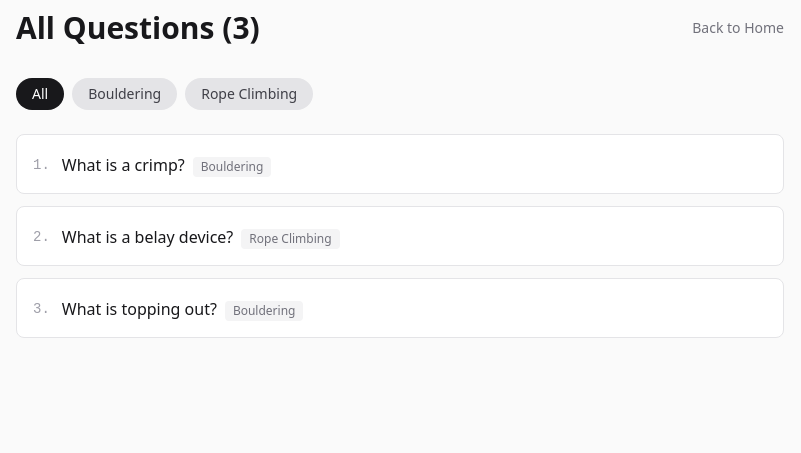
QuestionsPage › should collapse question when clicked again
Click the text "What is a crimp?".
click(123, 165)  # box x1=62 y1=154 x2=185 y2=176
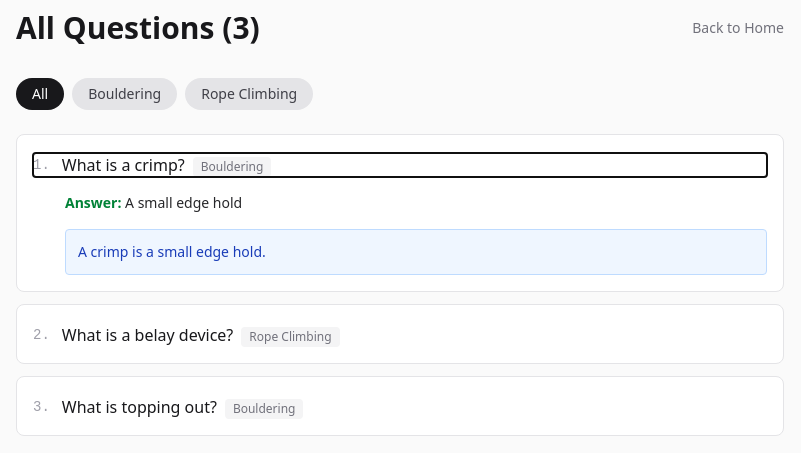
Now the text "A small edge hold" is shown, box x1=125 y1=193 x2=242 y2=212
Click the text "What is a crimp?".
click(123, 165)  # box x1=62 y1=154 x2=185 y2=176
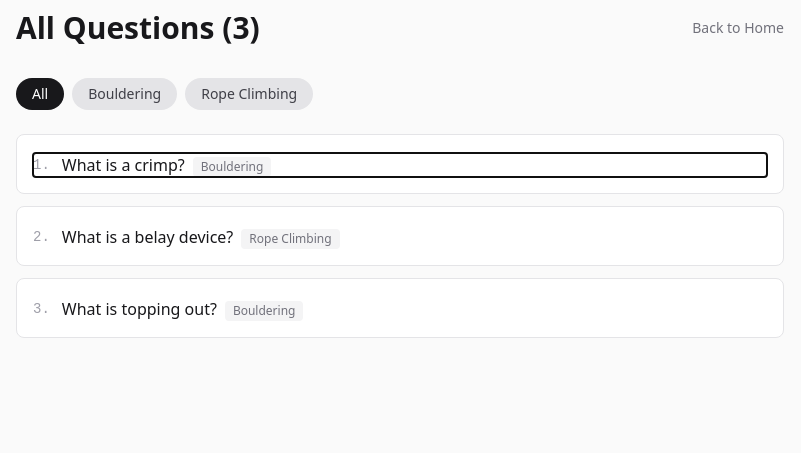
Now the text "A small edge hold" is gone
